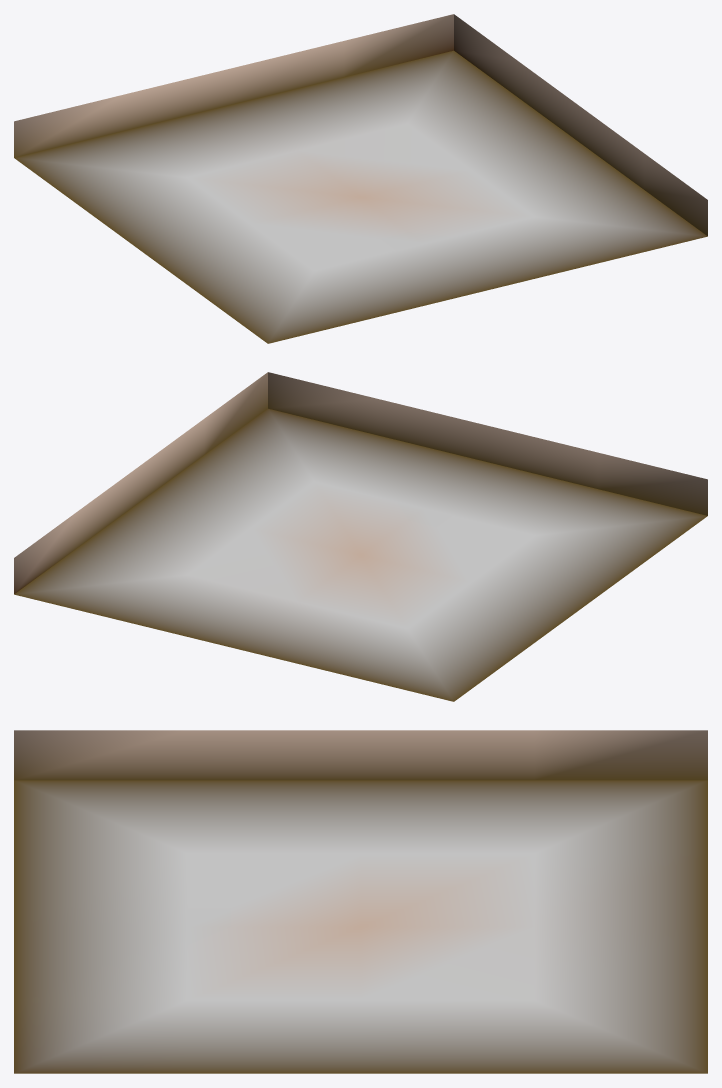
File: map.glb
3 renders of one model, top to bottom at view 1: azimuth 30°, elevation 25°; view 2: azimuth 150°, elevation 25°; view 3: azimuth 270°, elevation 25°, orthographic. The views are drawn at different scales.
Visible parts, largest first — view 1: Plane; view 2: Plane; view 3: Plane.
Boxes of the visible parts, x1,y1,x2,y2 form: Plane: [14, 14, 707, 343]; Plane: [14, 372, 707, 701]; Plane: [14, 730, 707, 1073].
Bounding box in the file's own units: 16 × 1.27 × 16.
